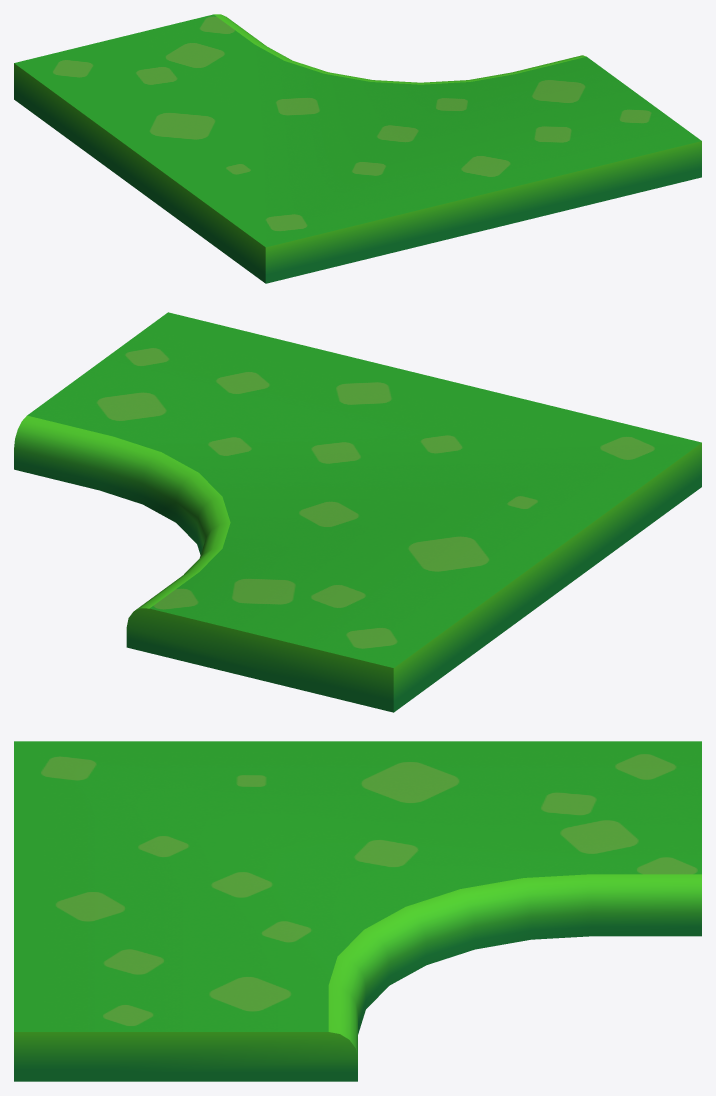
Rendered from GrassFloor_InnerCorner_1.glb.
3 renders of one model, top to bottom at view 1: azimuth 30°, elevation 25°; view 2: azimuth 150°, elevation 25°; view 3: azimuth 270°, elevation 25°, orthographic. The views are drawn at different scales.
Parts seen in each view (by area): view 1: GrassFloor_InnerCorner_1; view 2: GrassFloor_InnerCorner_1; view 3: GrassFloor_InnerCorner_1.
Boxes of the visible parts, x1,y1,x2,y2 form: GrassFloor_InnerCorner_1: (14, 14, 701, 283); GrassFloor_InnerCorner_1: (14, 312, 701, 712); GrassFloor_InnerCorner_1: (14, 741, 701, 1081).
Size of the model in its own units: 4 by 0.3187 by 4.
2 materials, 2 textured.
